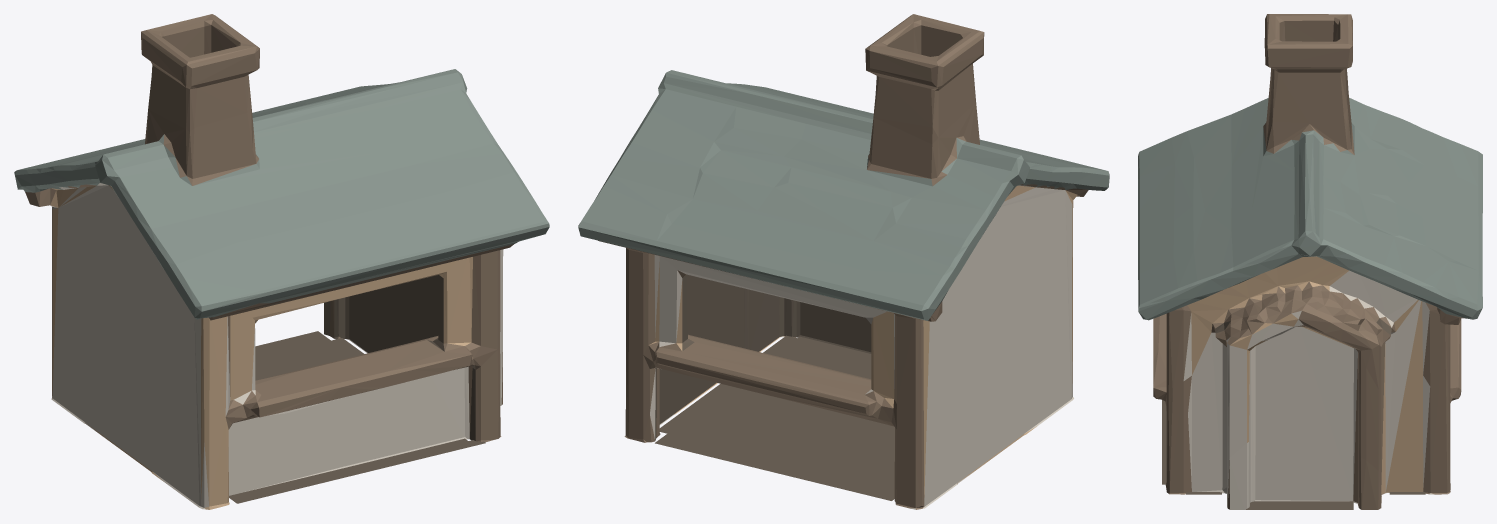
The picture shows the model from 3 angles, left to right: view 1: azimuth 30°, elevation 25°; view 2: azimuth 150°, elevation 25°; view 3: azimuth 270°, elevation 25°; orthographic projection. The views are drawn at different scales.
Parts seen in each view (by area): view 1: geometry_0; view 2: geometry_0; view 3: geometry_0.
Boxes of the visible parts, x1,y1,x2,y2 form: geometry_0: [14, 14, 549, 509]; geometry_0: [578, 14, 1109, 509]; geometry_0: [1138, 14, 1482, 509].
Size of the model in its own units: 0.8884 by 0.9333 by 0.7994.
